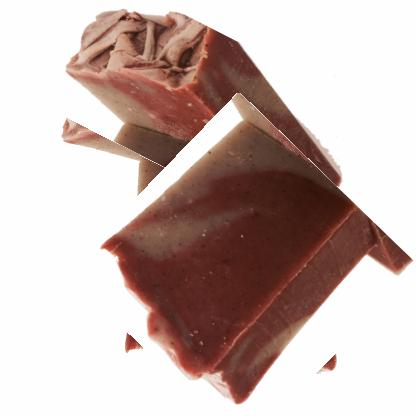soap: (91, 118, 395, 415), (41, 5, 378, 214)
